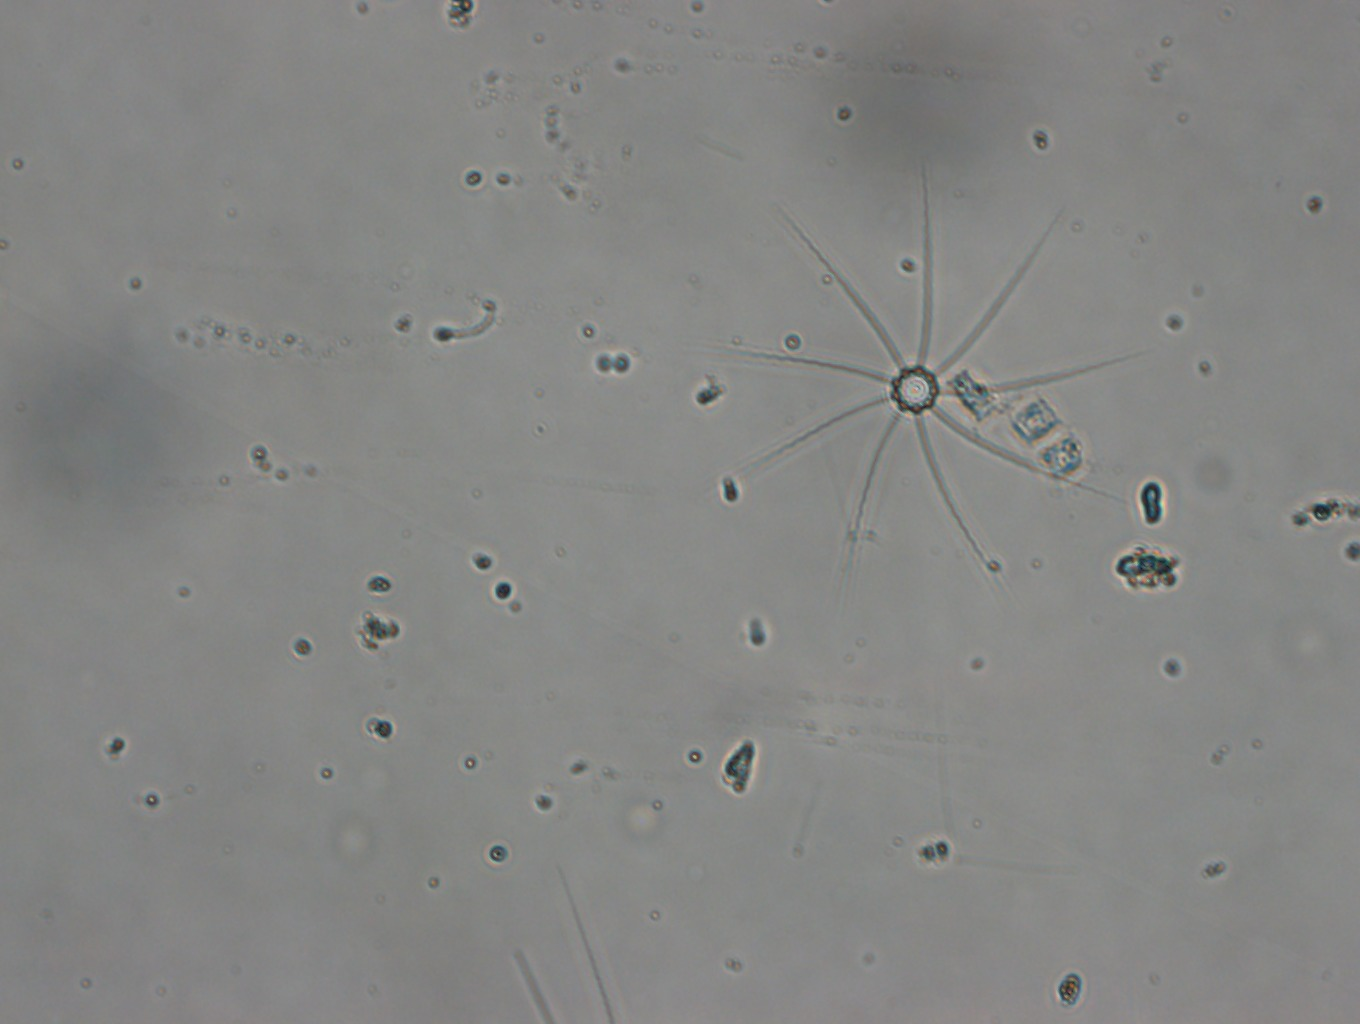bacteriastrum: (740, 197, 1154, 574)
